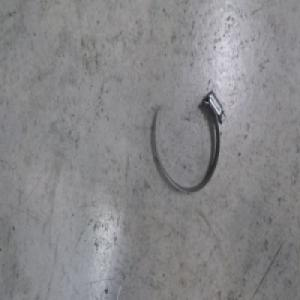AdjustableClamp: (151, 89, 227, 197)
